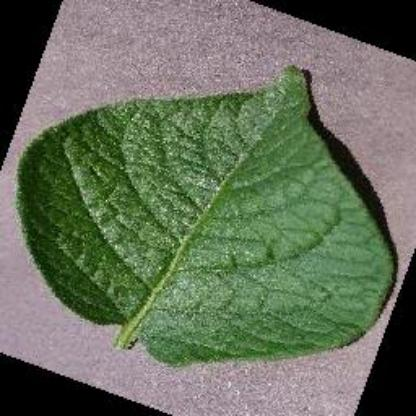Healthy-plant: (17, 57, 399, 364)
